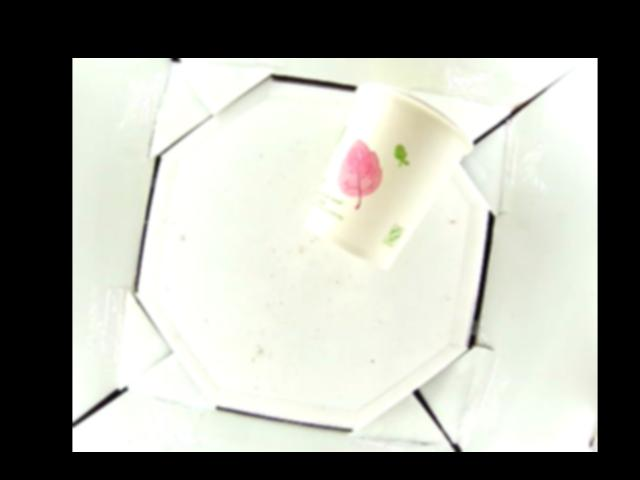Cup: (303, 85, 476, 269)
